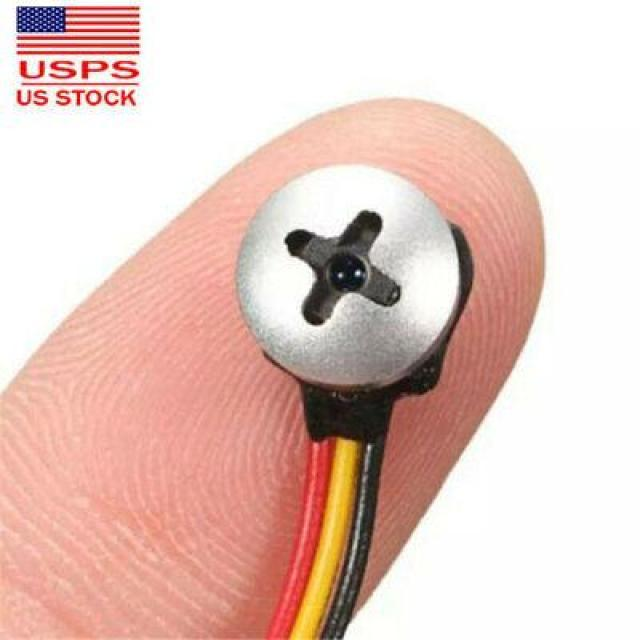hidden camera: (322, 251, 375, 292)
